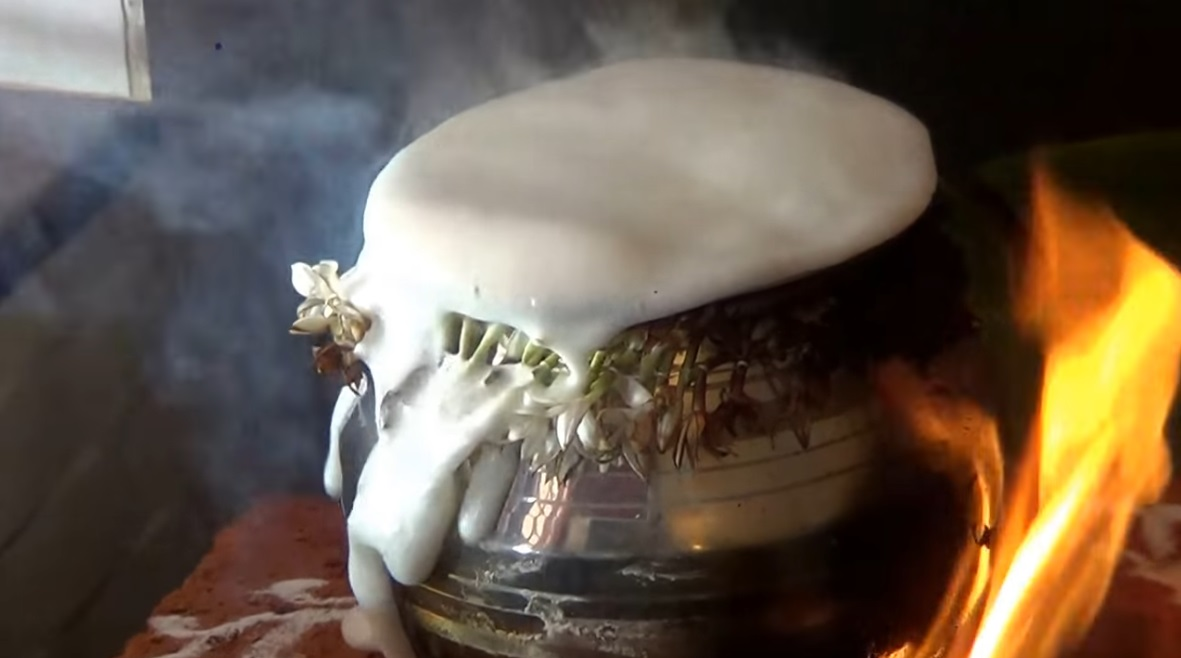Boiled: (339, 41, 893, 530)
